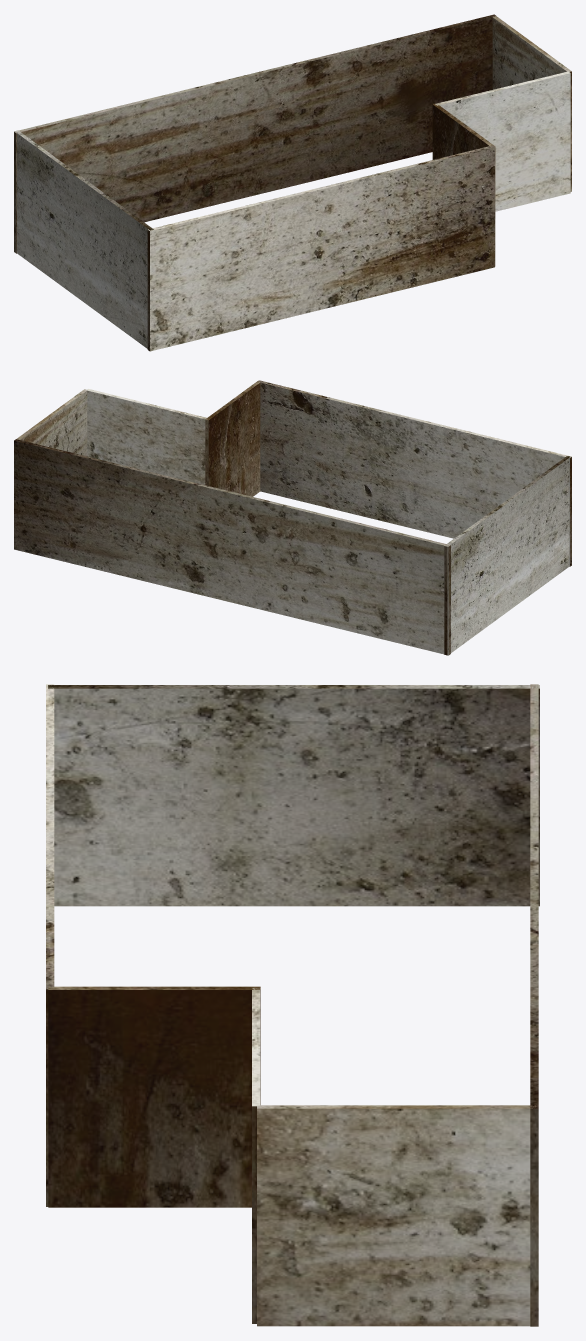
The model's file is Basement Walls.fbx.
3 views of the same model, one above another, from view 1: azimuth 30°, elevation 25°; view 2: azimuth 150°, elevation 25°; view 3: azimuth 270°, elevation 25° (orthographic). The views are drawn at different scales.
Visible parts, largest first — view 1: polySurface1; view 2: polySurface1; view 3: polySurface1.
Part boxes in pixels (x1,y1,x2,y2): polySurface1: [14, 14, 571, 351]; polySurface1: [14, 380, 571, 655]; polySurface1: [46, 684, 539, 1326].
Size of the model in its own units: 24.68 by 5.91 by 12.13.
